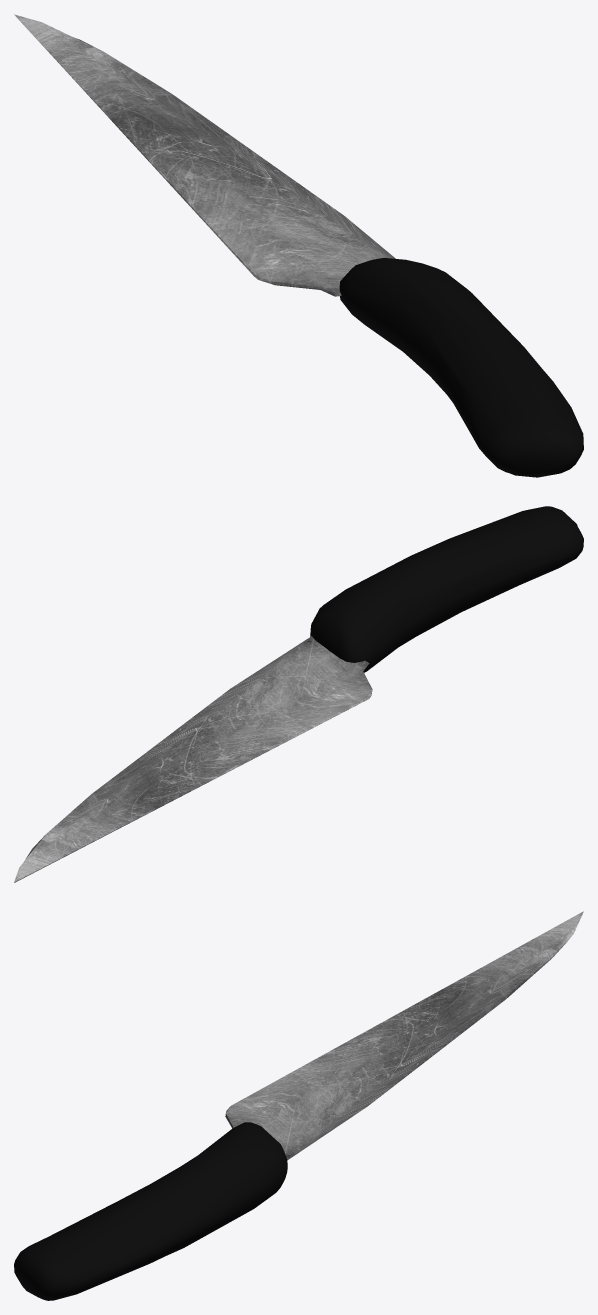
Rendered from Knife.FBX.
3 views of the same model, one above another, from view 1: azimuth 30°, elevation 25°; view 2: azimuth 150°, elevation 25°; view 3: azimuth 330°, elevation 25° (orthographic). The views are drawn at different scales.
Visible parts, largest first — view 1: knife; view 2: knife; view 3: knife.
Part boxes in pixels (bbox=[...]): knife: bbox=[14, 14, 583, 477]; knife: bbox=[14, 506, 583, 882]; knife: bbox=[14, 911, 583, 1300].
Size of the model in its own units: 3.52 by 1.91 by 26.54.
Materials: 1 (1 with a texture image).
